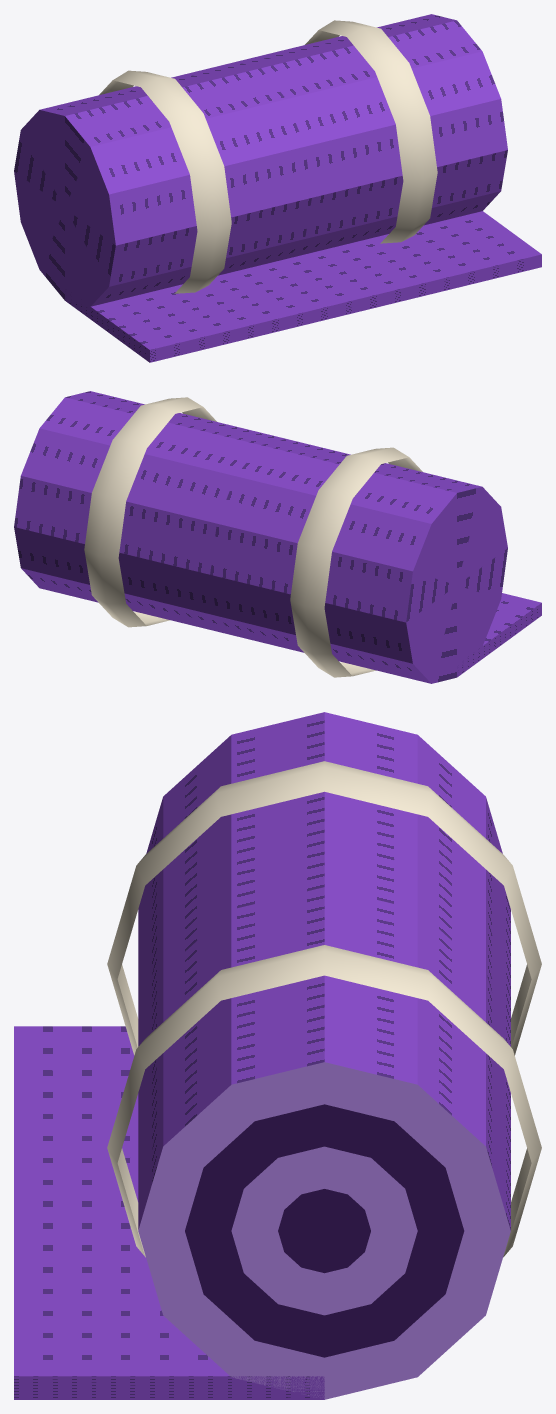
File: personal-yogaMat.glb
3 views of the same model, one above another, from view 1: azimuth 30°, elevation 25°; view 2: azimuth 150°, elevation 25°; view 3: azimuth 270°, elevation 25° (orthographic). The views are drawn at different scales.
Visible parts, largest first — view 1: personal.yogaMat; view 2: personal.yogaMat; view 3: personal.yogaMat.
Boxes of the visible parts, <box> form: personal.yogaMat: <box>14,14,541,362</box>; personal.yogaMat: <box>14,391,541,683</box>; personal.yogaMat: <box>14,712,541,1399</box>.
Size of the model in its own units: 1.58 by 0.8278 by 1.01.
4 materials, 2 textured.
